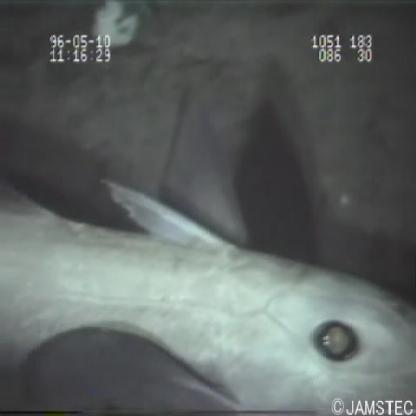Bio: (1, 84, 415, 416)
